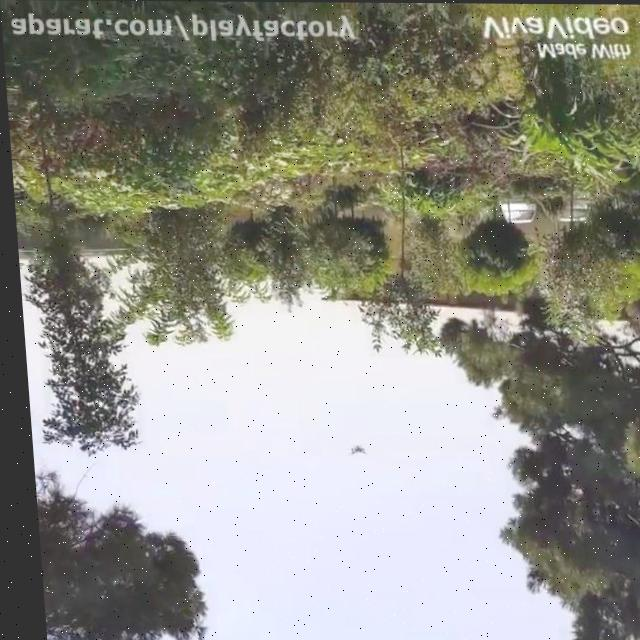drone: (337, 441, 366, 462)
